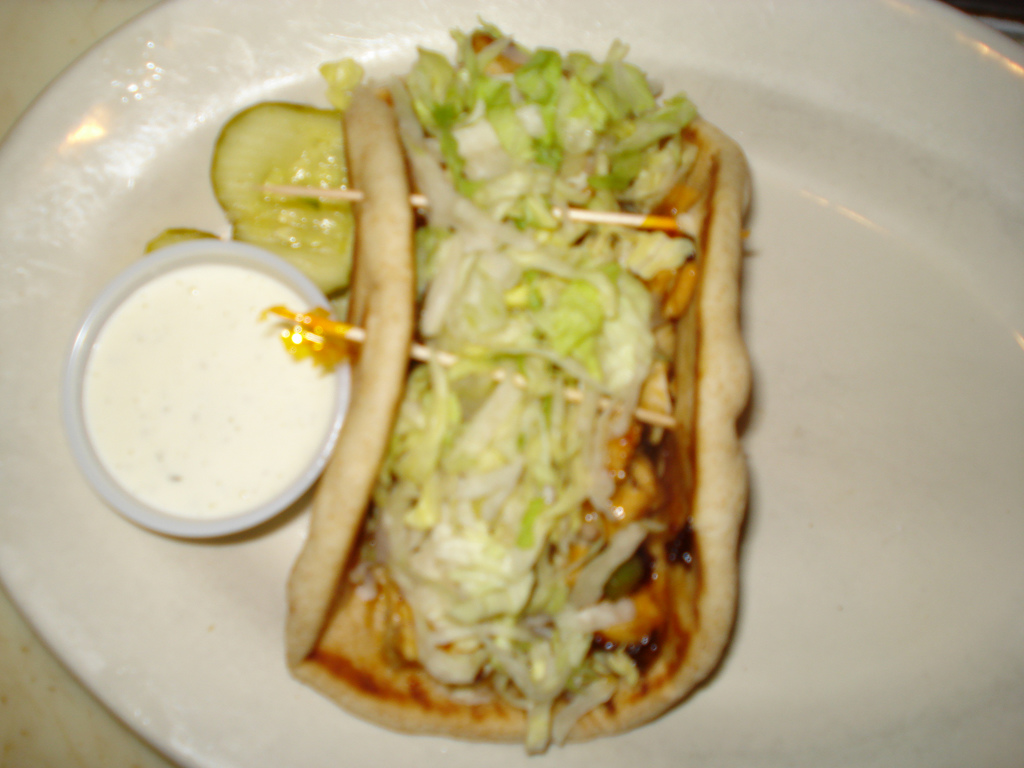chopped lettuce: (465, 66, 591, 666)
